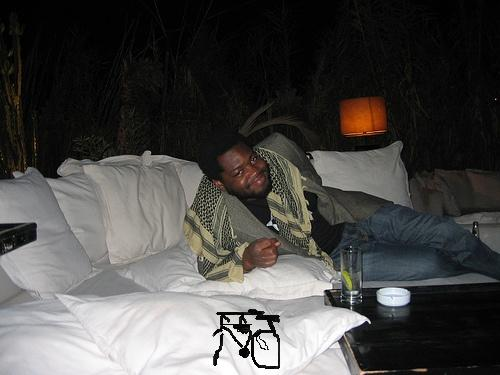tampered: (213, 310, 280, 369)
